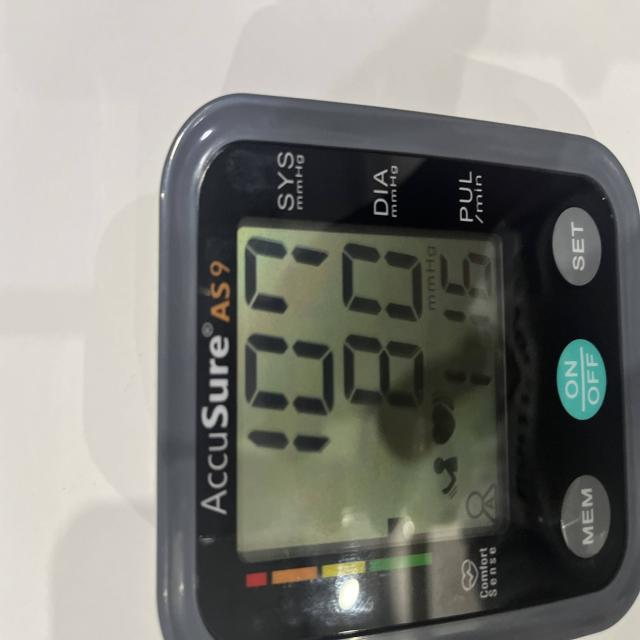bp: (150, 94, 640, 640)
